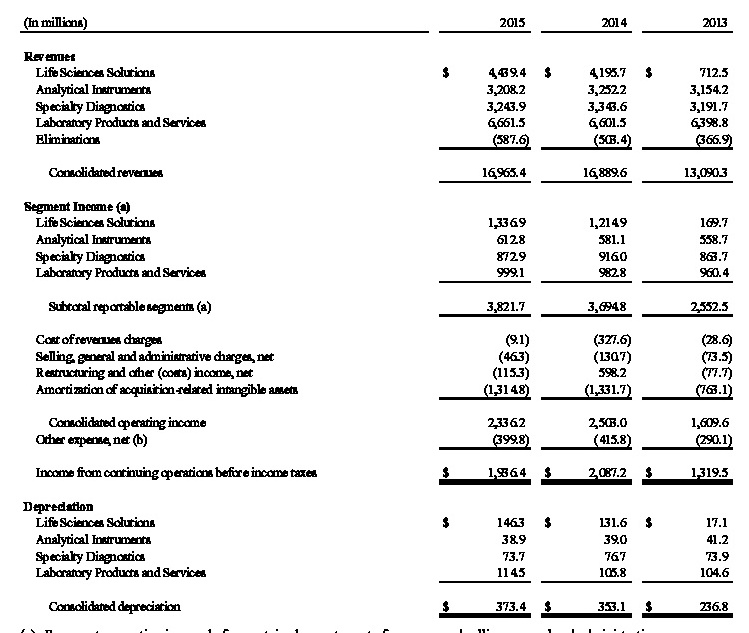table: (0, 0, 749, 633)
